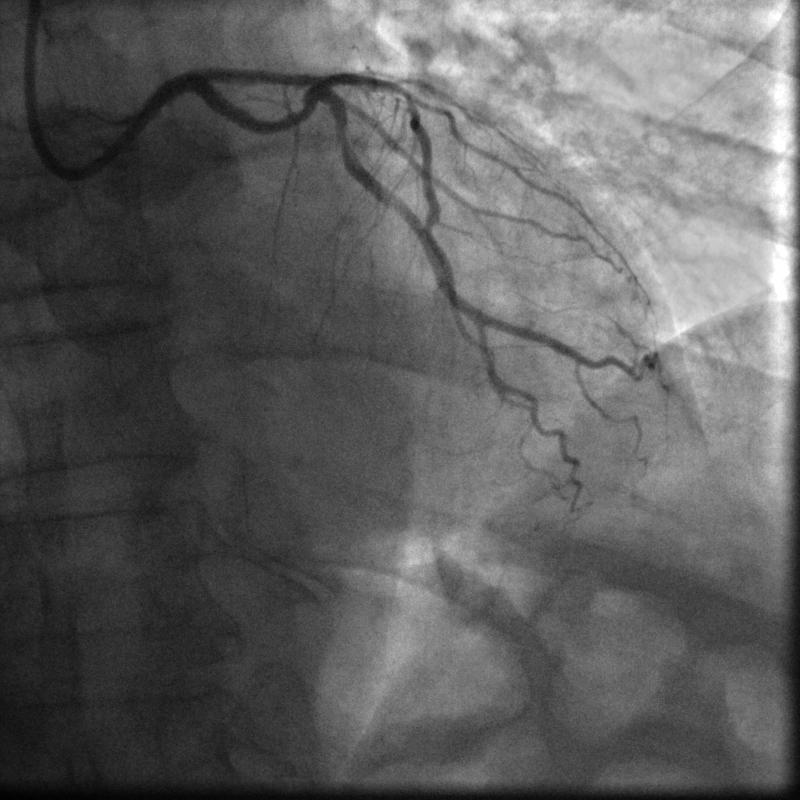Stenosis: (336, 124, 350, 148)
